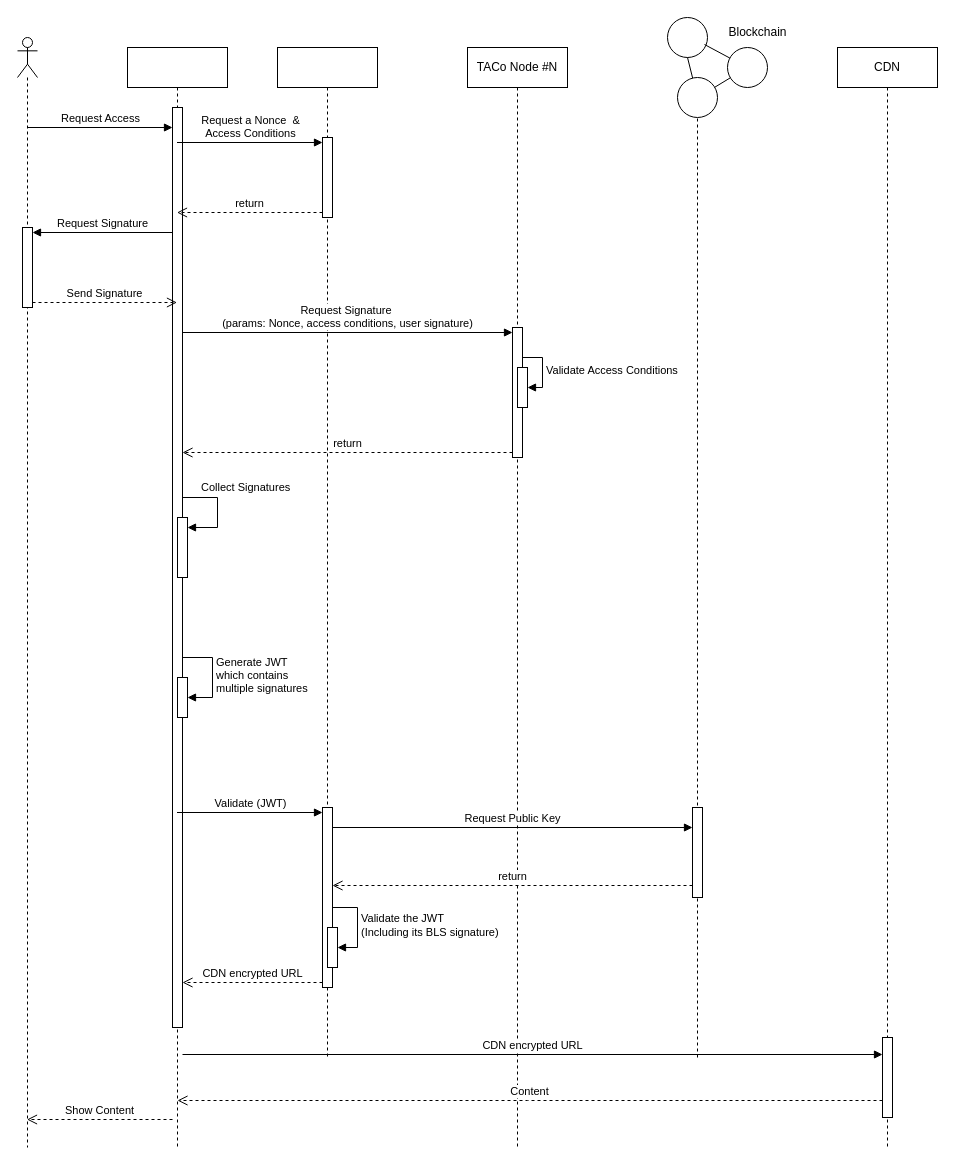
The diagram is 955 pixels wide and 1165 high, and some of its shapes have lost their labels. Here are the shapes that lost their labels. From the top down, the box of each, then its label:
(276, 46, 378, 1058): Backend
(126, 46, 228, 1148): App
